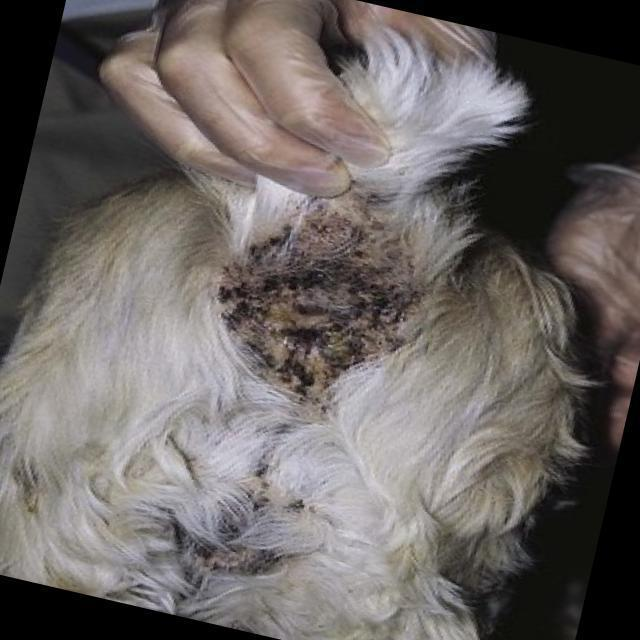allergic dermatitis: (252, 212, 390, 313), (219, 279, 274, 387), (346, 280, 395, 367), (260, 353, 351, 399)
